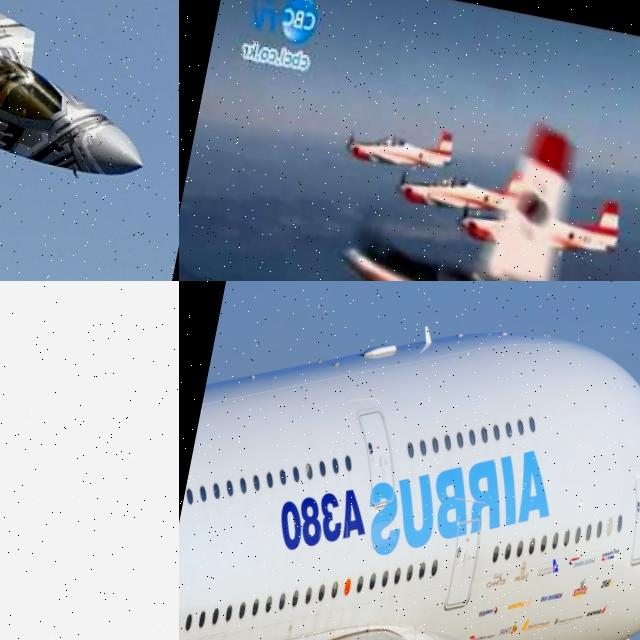A380: (179, 281, 640, 640)
F22: (0, 0, 179, 281)
KT-1: (299, 93, 640, 281), (450, 170, 632, 278), (396, 152, 547, 230), (336, 115, 461, 190)
